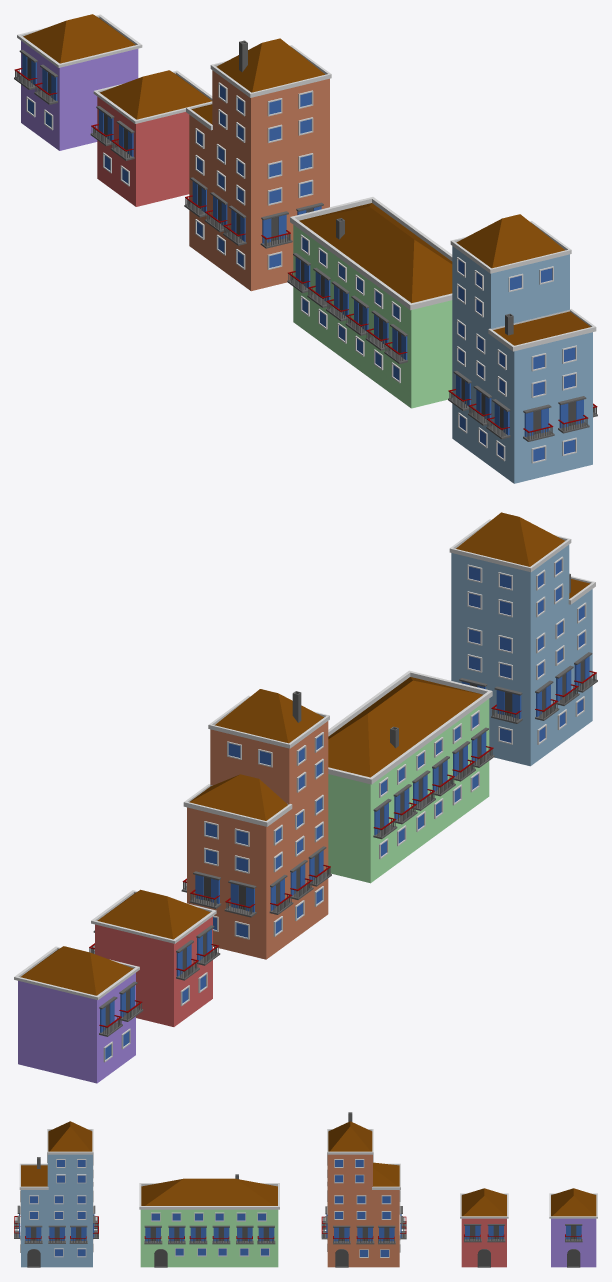
Rendered from HouseLowpoly.fbx.
The picture shows the model from 3 angles, top to bottom: view 1: azimuth 30°, elevation 25°; view 2: azimuth 150°, elevation 25°; view 3: azimuth 270°, elevation 25°; orthographic projection. The views are drawn at different scales.
Visible parts, largest first — view 1: House Blue, House Green, House Orange, House Red.001, House Red, Balcony.002, Balcony.003; view 2: House Blue, House Orange, House Green, House Red.001, House Red, Balcony.002, Balcony.004; view 3: House Green, House Blue, House Orange, House Red, House Red.001, Balcony.001, Door.
Boxes of the visible parts, <box> form: House Blue: <box>448,214,597,483</box>; House Green: <box>287,197,452,408</box>; House Orange: <box>186,38,331,291</box>; House Red.001: <box>14,14,142,150</box>; House Red: <box>90,70,212,206</box>; Balcony.002: <box>184,177,246,245</box>; Balcony.003: <box>260,202,323,248</box>; House Blue: <box>449,512,597,766</box>; House Orange: <box>183,689,329,959</box>; House Green: <box>328,670,494,883</box>; House Red.001: <box>14,946,143,1083</box>; House Red: <box>89,889,220,1026</box>; Balcony.002: <box>269,846,331,914</box>; Balcony.004: <box>189,871,256,917</box>; House Green: <box>139,1174,279,1267</box>; House Blue: <box>14,1121,98,1267</box>; House Orange: <box>327,1112,400,1267</box>; House Red: <box>460,1188,508,1267</box>; House Red.001: <box>549,1188,597,1267</box>; Balcony.001: <box>333,1225,395,1244</box>; Door: <box>335,1249,348,1267</box>.
Bounding box in the file's own units: 646 × 1478 × 5785.
